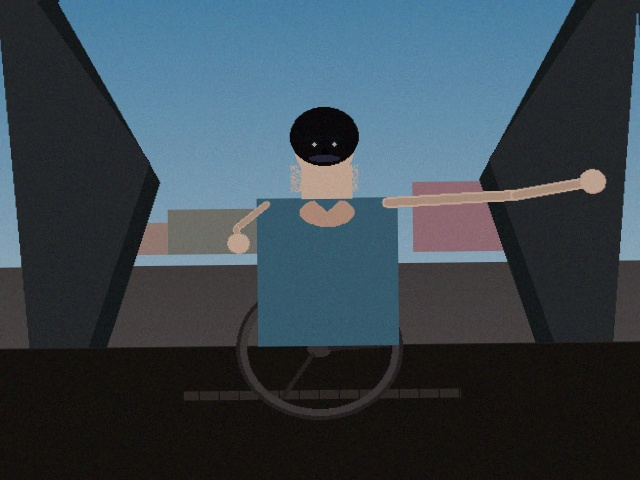hands_off_wheel: (568, 165, 617, 203)
